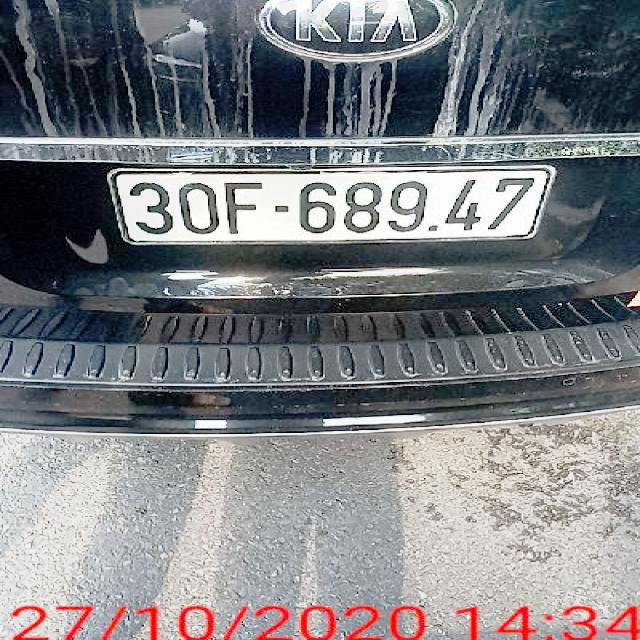license_plate: (115, 171, 553, 246)
